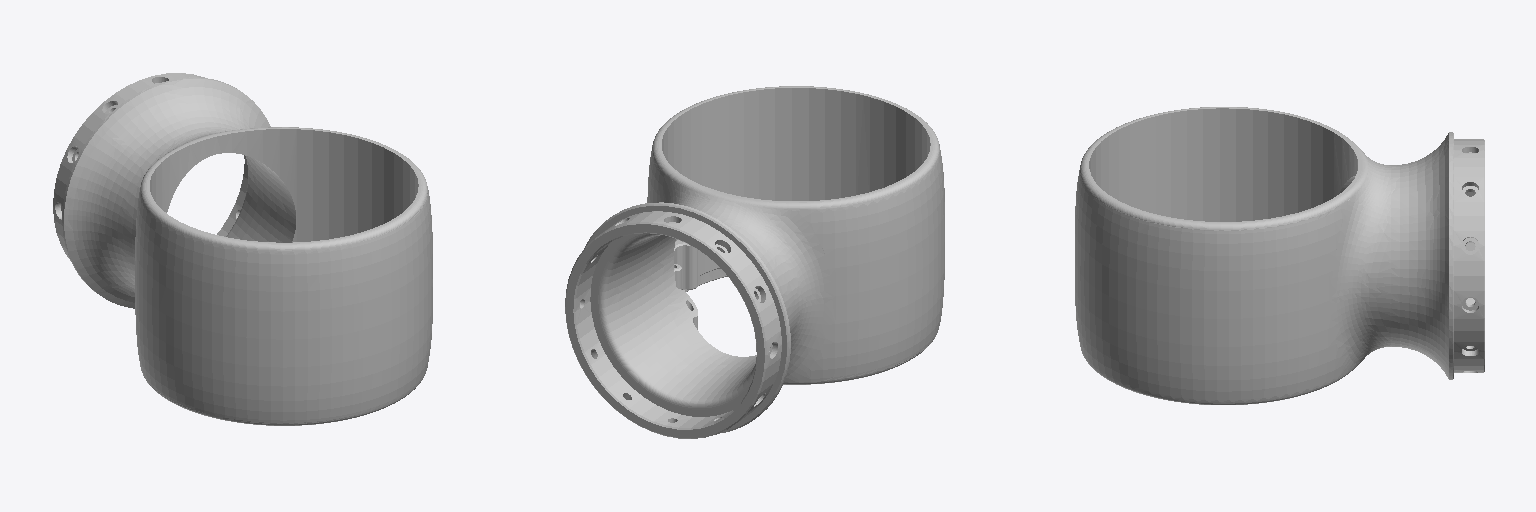
Rendered from right_arm_link1.obj.
3 renders of one model, left to right at view 1: azimuth 30°, elevation 25°; view 2: azimuth 150°, elevation 25°; view 3: azimuth 270°, elevation 25°, orthographic.
Parts seen in each view (by area): view 1: arm_link1; view 2: arm_link1; view 3: arm_link1.
Part boxes in pixels (x1,y1,x2,y2): arm_link1: (53, 73, 432, 425); arm_link1: (565, 86, 944, 438); arm_link1: (1075, 107, 1484, 404).
Size of the model in its own units: 0.0997 by 0.083 by 0.1374.